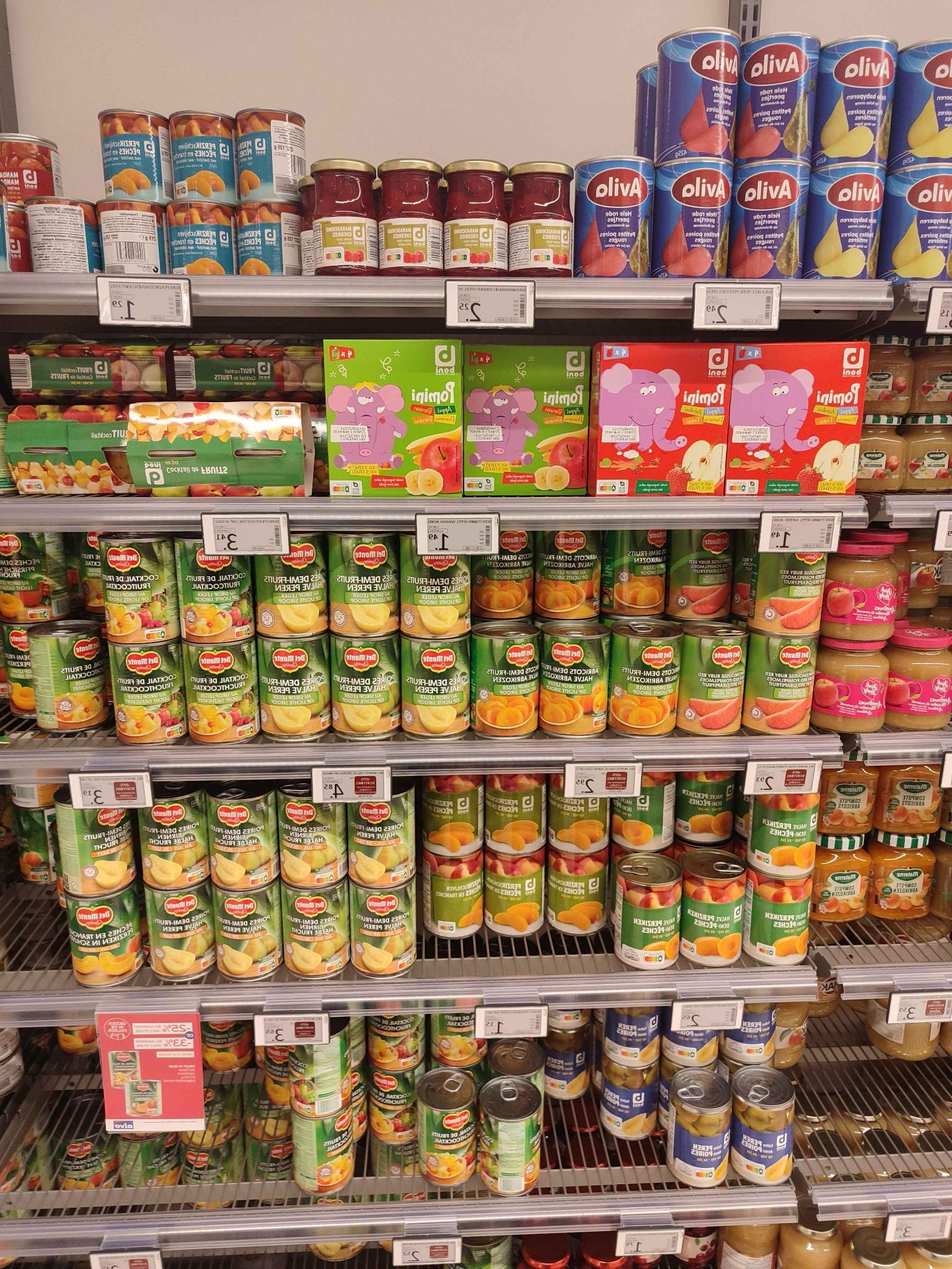nutri_A: (594, 479, 616, 496), (255, 957, 276, 974), (330, 481, 353, 496), (644, 950, 666, 965), (323, 958, 345, 973), (186, 866, 205, 883), (389, 868, 410, 883), (249, 871, 270, 885), (463, 479, 485, 492), (755, 946, 778, 958), (172, 180, 189, 196), (393, 955, 412, 969), (727, 480, 747, 493), (312, 871, 333, 883), (695, 1170, 715, 1181), (745, 1165, 765, 1174), (609, 1118, 621, 1128)
nutri_C: (318, 247, 345, 264), (378, 250, 400, 266), (527, 249, 553, 262), (449, 249, 470, 264)
shelf_bottom: (0, 1030, 948, 1269)
shelf_middle: (0, 535, 951, 1016)
shelf_top: (0, 3, 951, 517)
